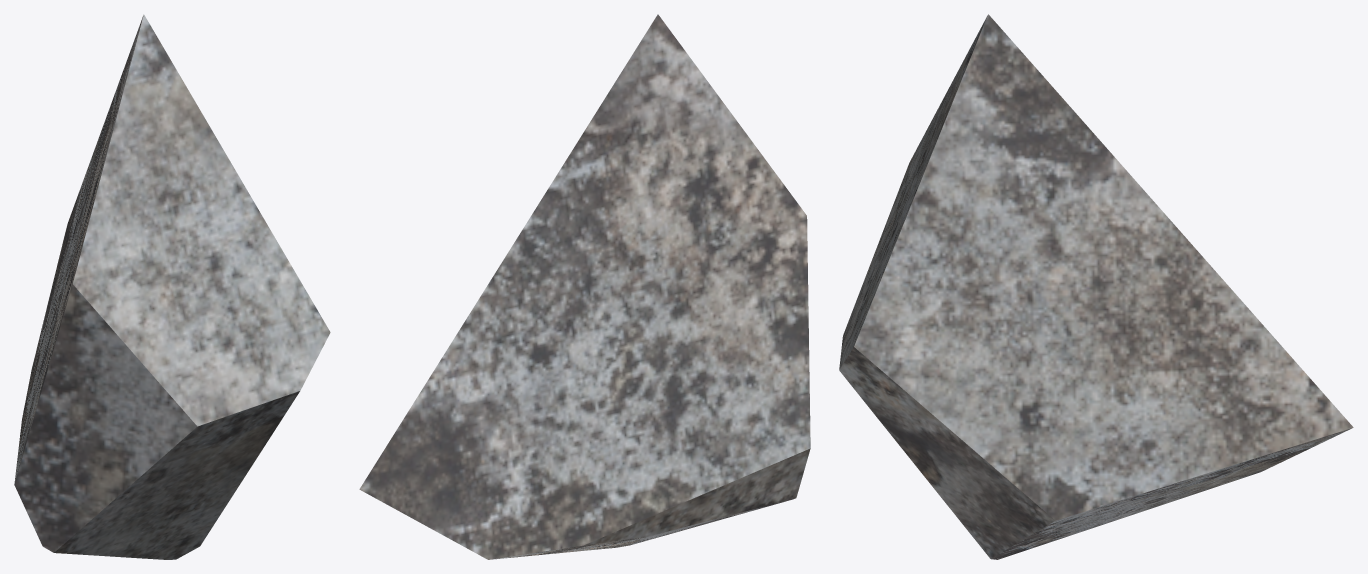
Rendered from Asteroid_Large_001_02_007_03_008.fbx.
3 views of the same model, side by side, from view 1: azimuth 30°, elevation 25°; view 2: azimuth 150°, elevation 25°; view 3: azimuth 270°, elevation 25° (orthographic). The views are drawn at different scales.
Visible parts, largest first — view 1: Asteroid_Large_001_02_007_03_008; view 2: Asteroid_Large_001_02_007_03_008; view 3: Asteroid_Large_001_02_007_03_008.
Part boxes in pixels (x1=…): Asteroid_Large_001_02_007_03_008: x1=14, y1=14, x2=330, y2=559; Asteroid_Large_001_02_007_03_008: x1=359, y1=14, x2=810, y2=559; Asteroid_Large_001_02_007_03_008: x1=839, y1=14, x2=1353, y2=559.
Bounding box in the file's own units: 6.03 × 10.5 × 9.26.
